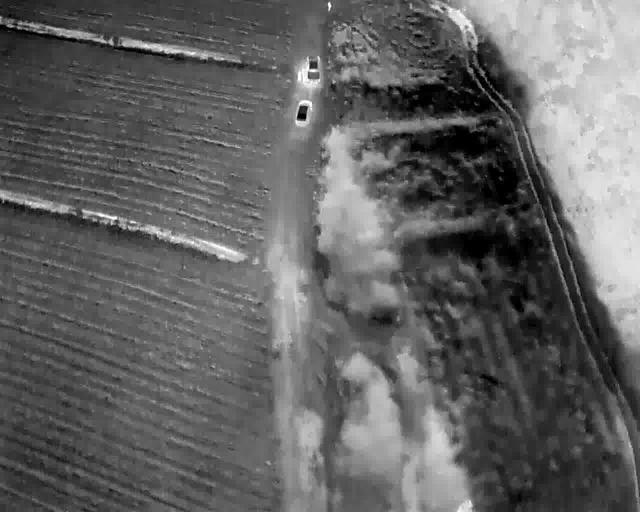car: (295, 99, 311, 126), (306, 55, 320, 83)
person: (296, 71, 301, 81), (327, 1, 331, 12)
